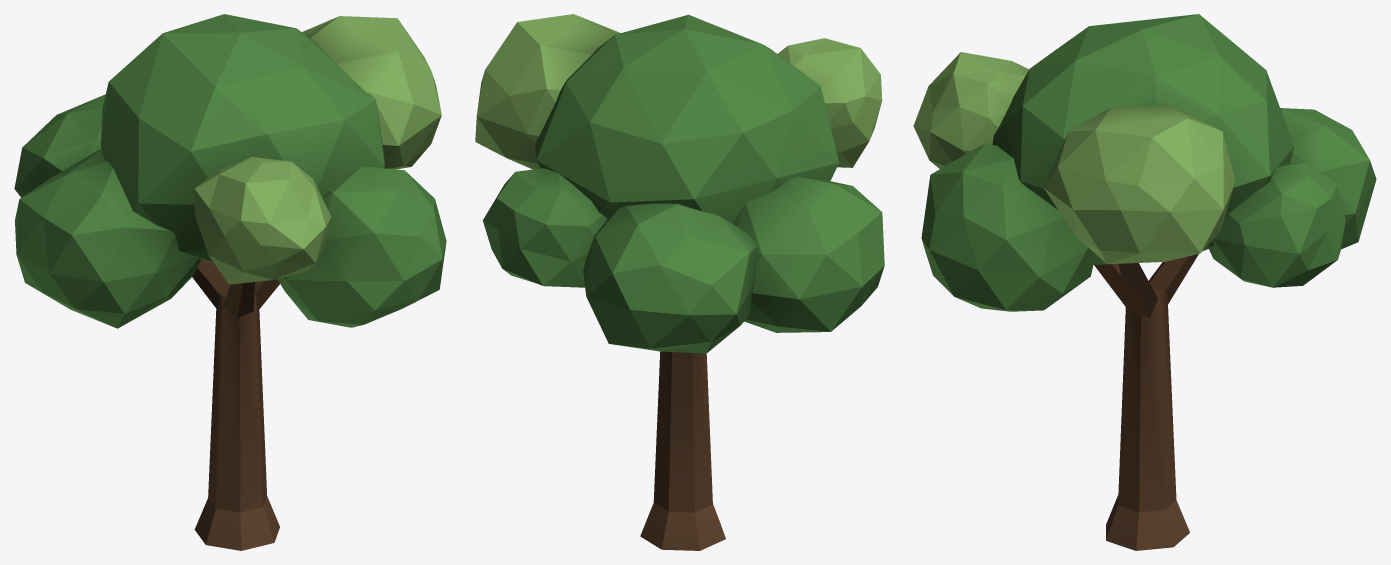
File: tree_oak_a.glb
3 views of the same model, side by side, from view 1: azimuth 30°, elevation 25°; view 2: azimuth 150°, elevation 25°; view 3: azimuth 270°, elevation 25° (orthographic).
Parts seen in each view (by area): view 1: Tree; view 2: Tree; view 3: Tree.
Part boxes in pixels (x1,y1,x2,y2): Tree: (14, 14, 446, 550); Tree: (475, 14, 884, 550); Tree: (913, 14, 1376, 550).
Size of the model in its own units: 6.23 by 7.65 by 6.37.
1 material, 1 textured.
